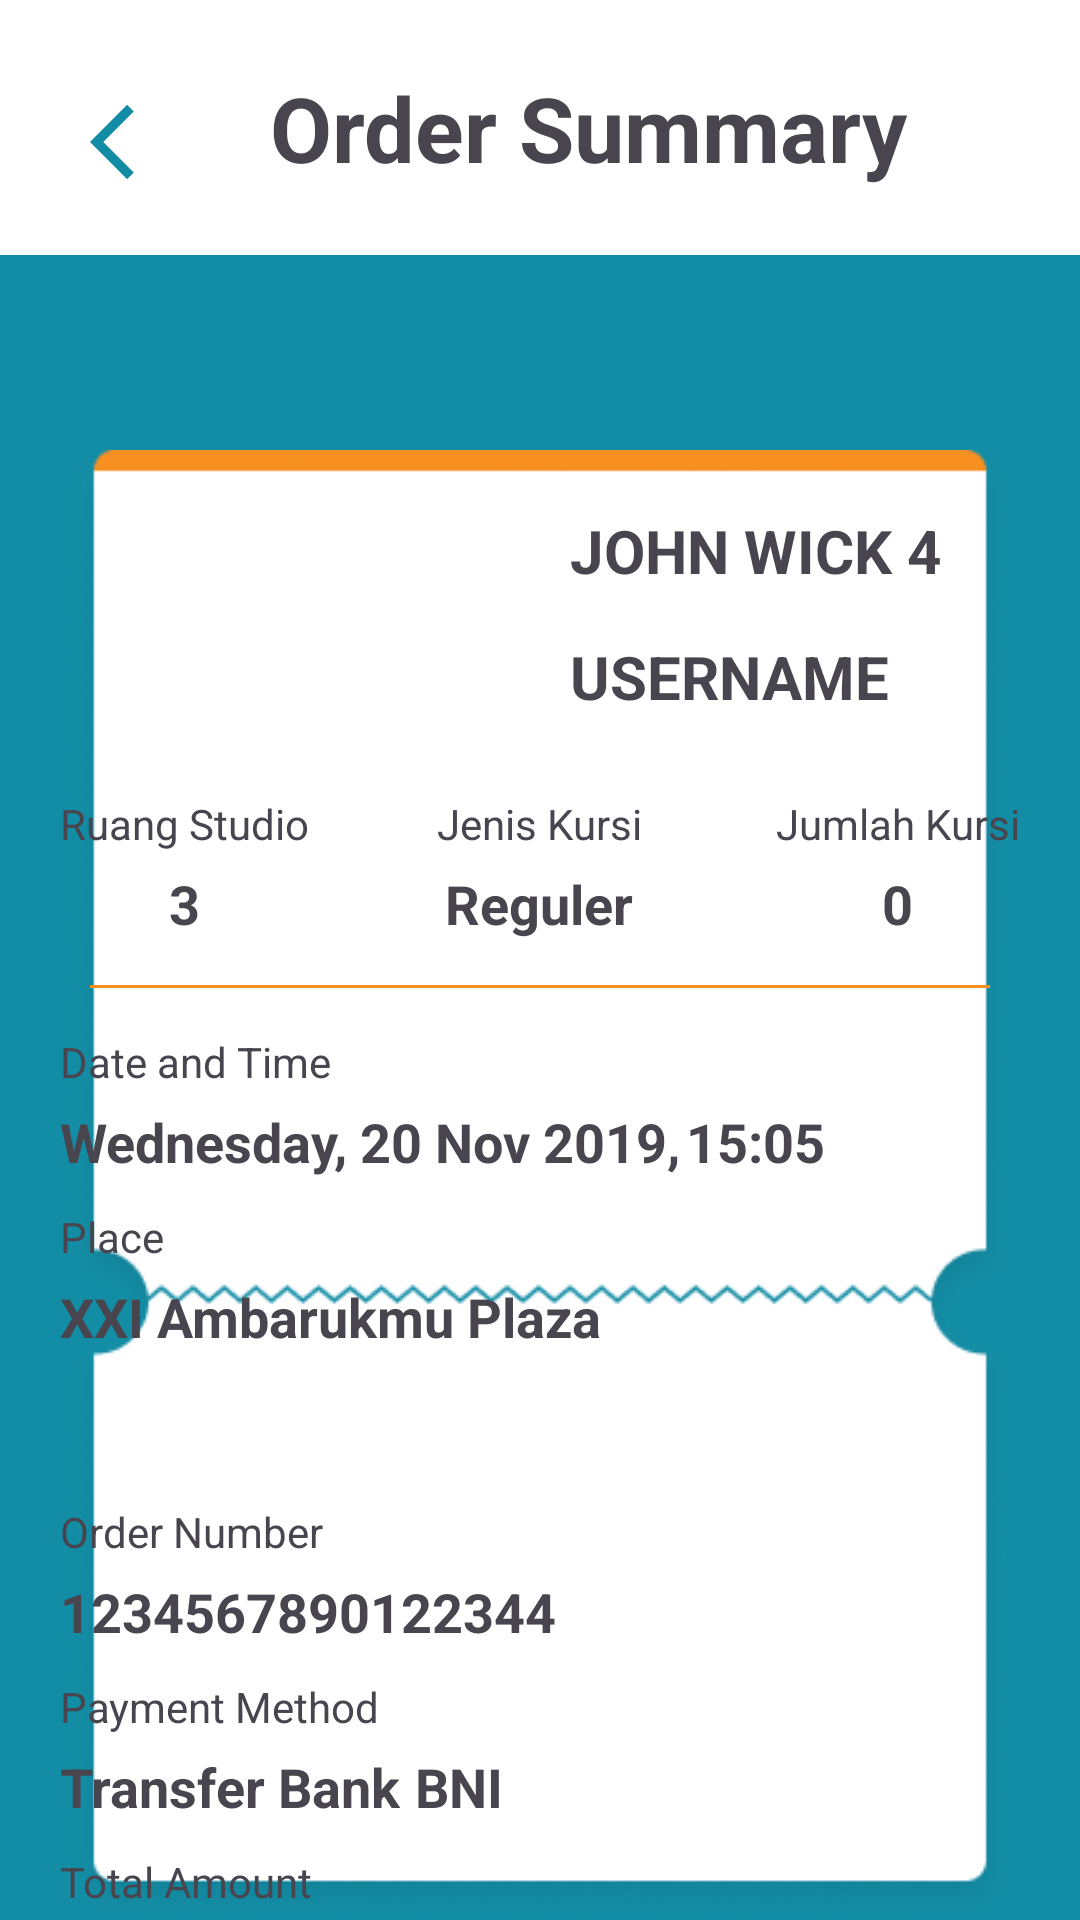

Where icons sit on this 1080px x 1920px app screen, as region(x1, y1, x2, y2):
arrow back: region(90, 105, 134, 179)
